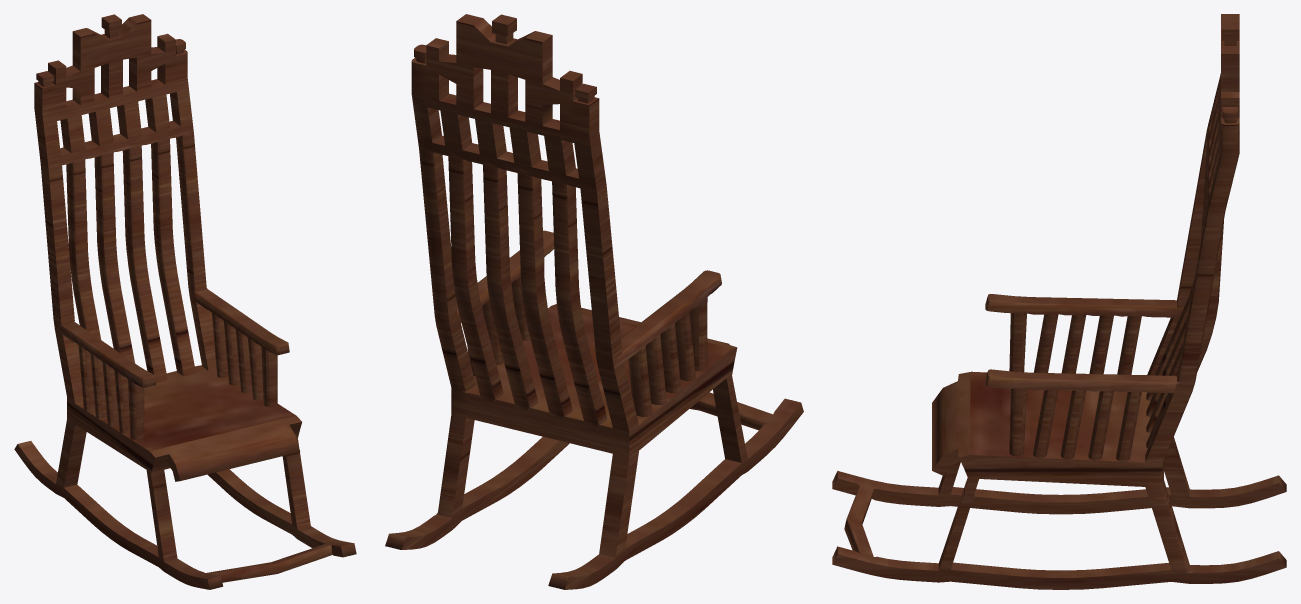
The model's file is KursiGoyang.fbx.
3 renders of one model, left to right at view 1: azimuth 30°, elevation 25°; view 2: azimuth 150°, elevation 25°; view 3: azimuth 270°, elevation 25°, orthographic. The views are drawn at different scales.
Parts seen in each view (by area): view 1: KursiGoyang_LOD0; view 2: KursiGoyang_LOD0; view 3: KursiGoyang_LOD0.
Boxes of the visible parts, box(x1,y1,x2,y2) form: KursiGoyang_LOD0: box(14, 14, 356, 589); KursiGoyang_LOD0: box(385, 14, 803, 589); KursiGoyang_LOD0: box(832, 14, 1286, 589).
Size of what is drawn, in the model's own units: 74.08 by 217 by 171.
